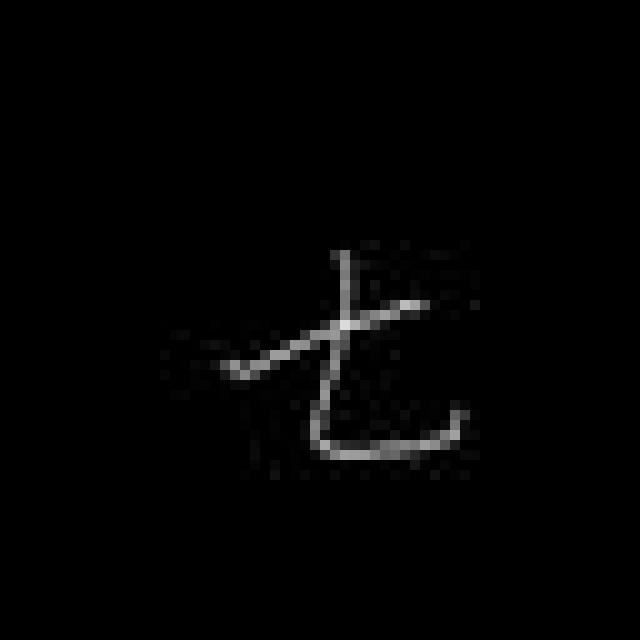7 -seven-: (220, 237, 477, 467)
